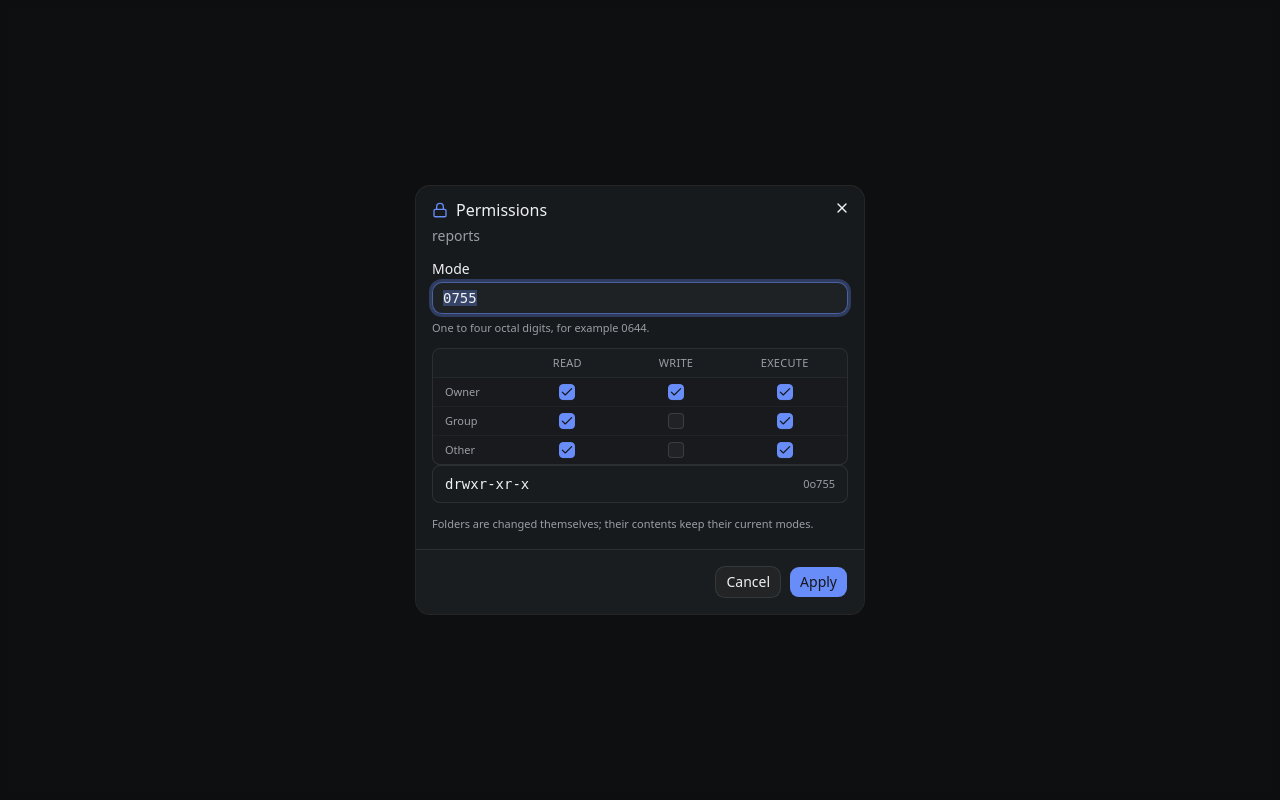
PermissionsDialog › edits the mode with the symbolic checkboxes
This screenshot has width=1280, height=800.
Later steps or results of the test are not shown.
What coordinates should you click on to do the following:
click the checkbox named "Owner execute"
I would click on:
 (785, 392)
Its box is [777,384,793,400].
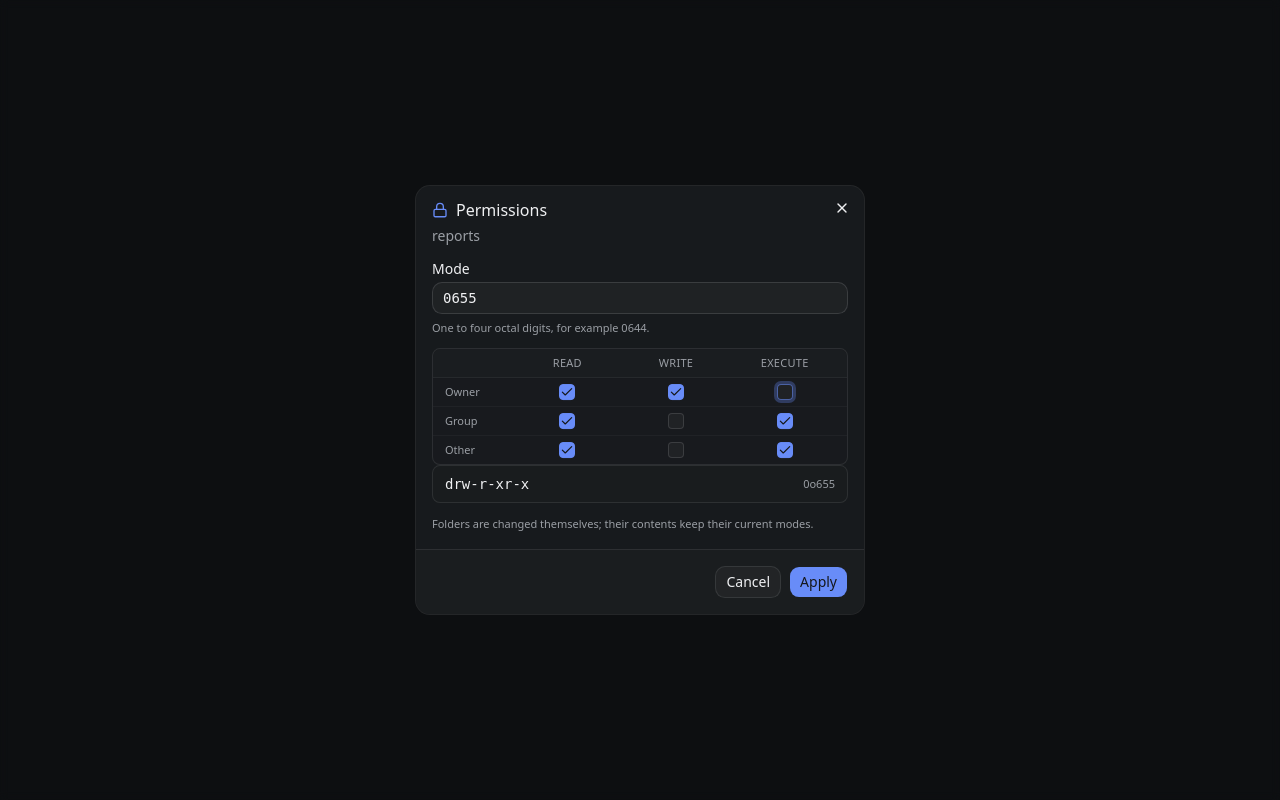
Expected: the field labelled "Mode" holds "0655", [432,282,848,314]
What coordinates should you click on to do the following:
click the checkbox named "Group write"
I would click on:
 (676, 421)
Its box is [668,413,684,429].
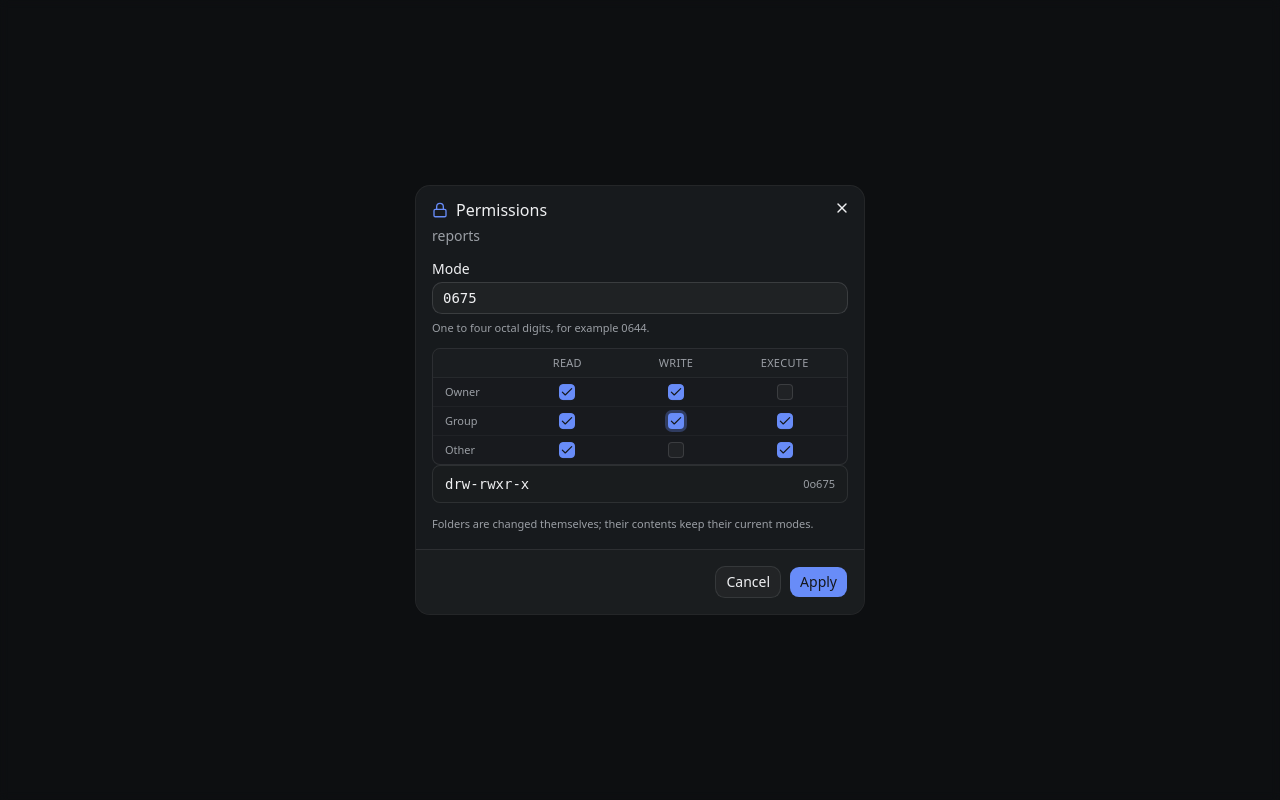
Expected: the field labelled "Mode" holds "0675", [432,282,848,314]
